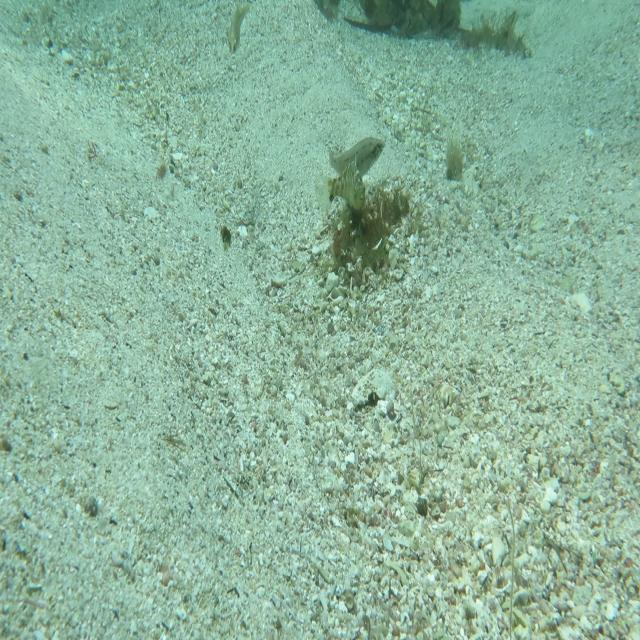BEND_OPP: (310, 152, 369, 215)
female: (326, 135, 388, 182)
nest: (314, 172, 418, 292)
